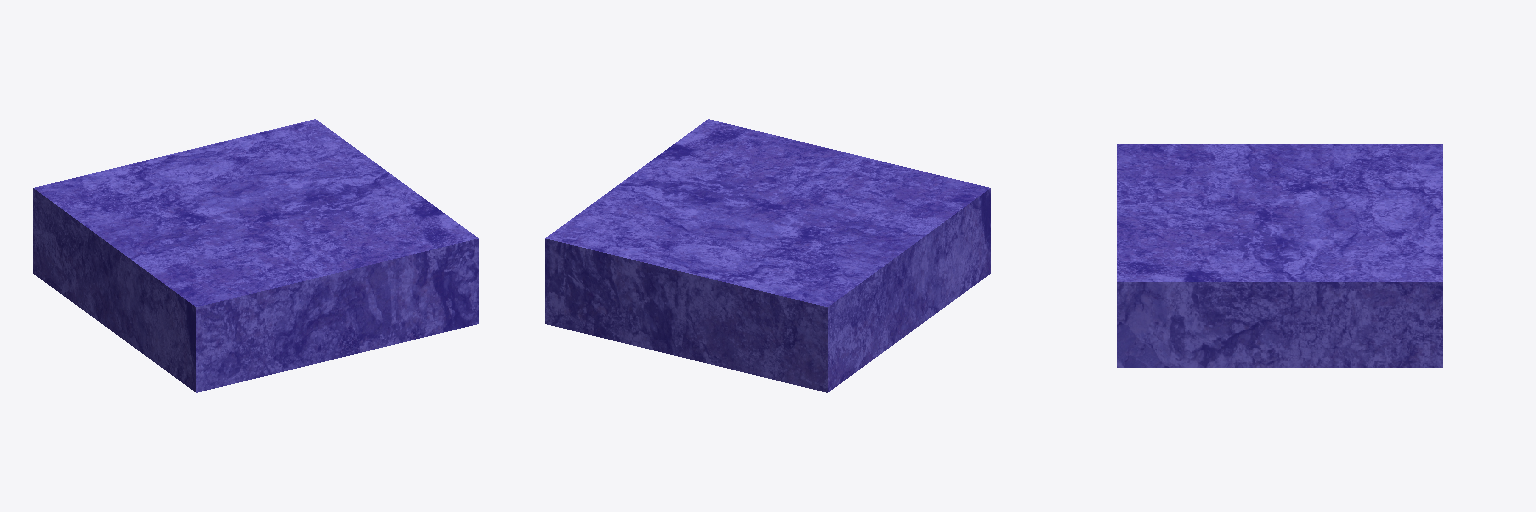
3 renders of one model, left to right at view 1: azimuth 30°, elevation 25°; view 2: azimuth 150°, elevation 25°; view 3: azimuth 270°, elevation 25°, orthographic.
Visible parts, largest first — view 1: Plane_Plane.004; view 2: Plane_Plane.004; view 3: Plane_Plane.004.
Boxes of the visible parts, x1=… form: Plane_Plane.004: x1=33, y1=119, x2=478, y2=392; Plane_Plane.004: x1=545, y1=119, x2=990, y2=392; Plane_Plane.004: x1=1117, y1=144, x2=1442, y2=367.
Bounding box in the file's own units: 1.14 × 0.3298 × 1.14.
Materials: 1 (1 with a texture image).